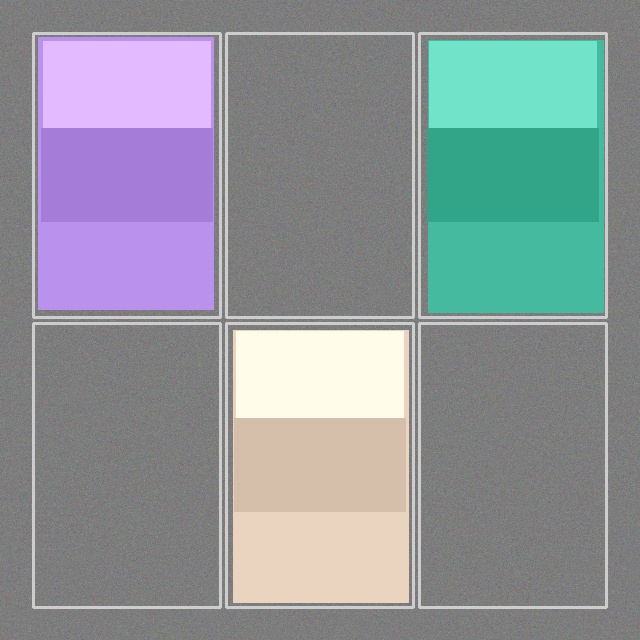space-empty: (228, 35, 411, 315), (35, 325, 218, 605), (421, 325, 604, 605)
space-occupied: (35, 35, 218, 315), (421, 35, 604, 315), (228, 325, 411, 605)
